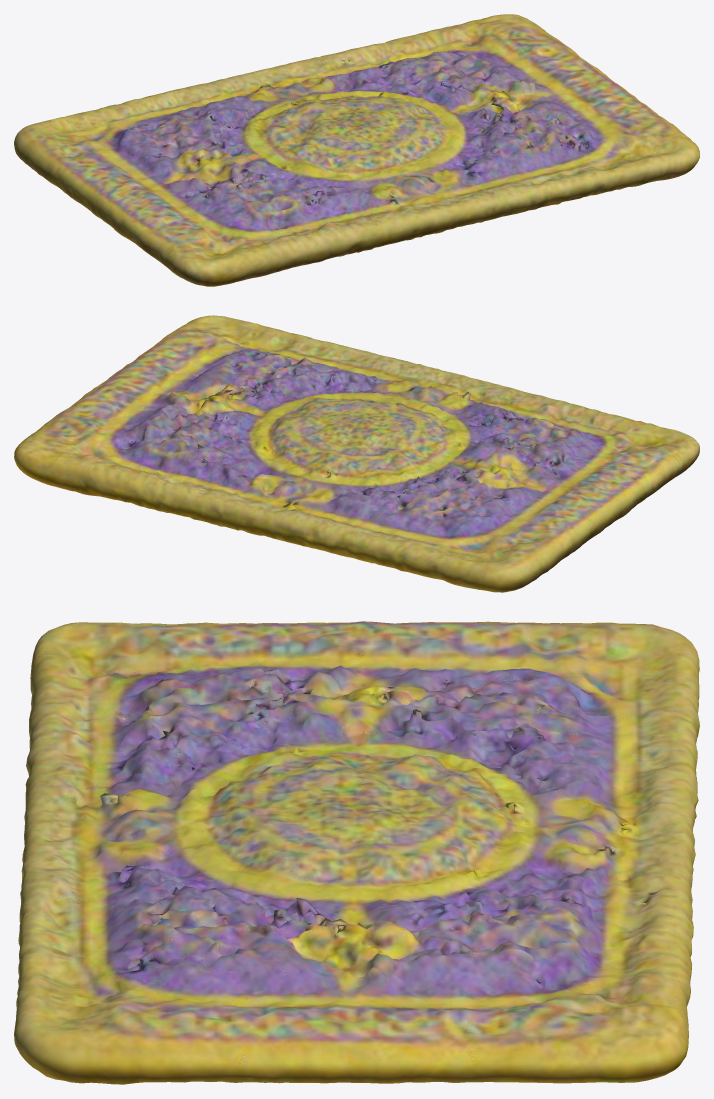
Rendered from card.glb.
3 views of the same model, one above another, from view 1: azimuth 30°, elevation 25°; view 2: azimuth 150°, elevation 25°; view 3: azimuth 270°, elevation 25° (orthographic). The views are drawn at different scales.
Visible parts, largest first — view 1: Mesh1; view 2: Mesh1; view 3: Mesh1.
Boxes of the visible parts, <box> form: Mesh1: <box>14,14,699,286</box>; Mesh1: <box>14,315,699,592</box>; Mesh1: <box>14,621,699,1084</box>.
Bounding box in the file's own units: 1.2 × 0.1423 × 0.8029.
Materials: 1 (1 with a texture image).
